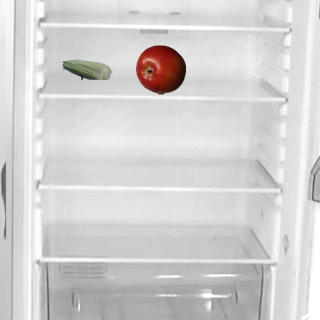Apple Braeburn: (135, 44, 185, 94)
Corn Husk: (61, 44, 111, 94)
